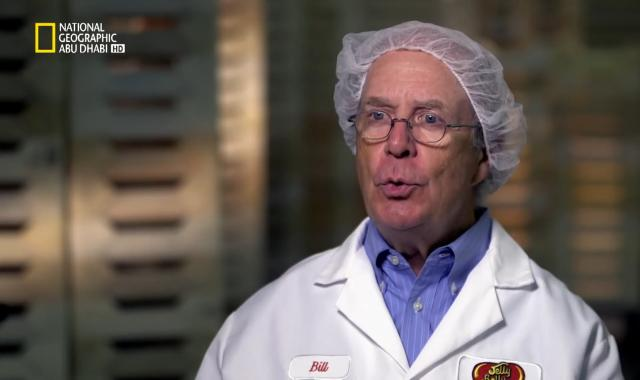hairnet: (338, 29, 522, 175)
